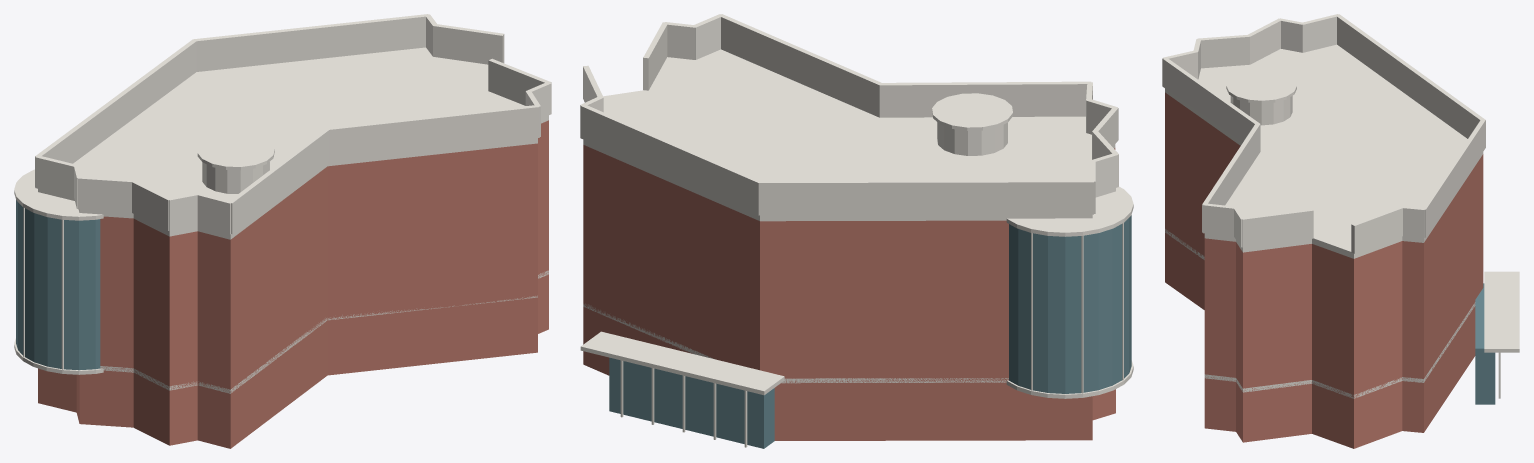
Rendered from seal.glb.
3 views of the same model, side by side, from view 1: azimuth 30°, elevation 25°; view 2: azimuth 150°, elevation 25°; view 3: azimuth 270°, elevation 25° (orthographic). The views are drawn at different scales.
Parts seen in each view (by area): view 1: SOL_tower, SOL_roof_slab, SOL_podium, SOL_glass_tower, SOL_parapet_2, SOL_parapet_11, SOL_parapet_3, SOL_parapet_10, SOL_parapet_0, SOL_pavilion_roof, SOL_parapet_6, SOL_ring_19 (+7 smaller); view 2: SOL_tower, SOL_roof_slab, SOL_podium, SOL_glass_tower, SOL_parapet_3, SOL_atrium, SOL_parapet_2, SOL_parapet_11, SOL_parapet_10, SOL_canopy, SOL_ring_19, SOL_pavilion_roof (+9 smaller); view 3: SOL_tower, SOL_roof_slab, SOL_podium, SOL_parapet_3, SOL_canopy, SOL_parapet_10, SOL_parapet_2, SOL_parapet_14, SOL_pavilion_roof, SOL_parapet_11, SOL_atrium, SOL_parapet_0 (+9 smaller).
Boxes of the visible parts, bbox=[...] form: SOL_tower: bbox=[100, 120, 548, 393]; SOL_roof_slab: bbox=[38, 47, 548, 239]; SOL_podium: bbox=[38, 274, 548, 448]; SOL_glass_tower: bbox=[16, 200, 100, 370]; SOL_parapet_2: bbox=[193, 14, 429, 71]; SOL_parapet_11: bbox=[326, 105, 539, 160]; SOL_parapet_3: bbox=[35, 39, 196, 186]; SOL_parapet_10: bbox=[228, 128, 329, 233]; SOL_parapet_0: bbox=[433, 24, 504, 64]; SOL_pavilion_roof: bbox=[197, 134, 274, 170]; SOL_parapet_6: bbox=[78, 176, 134, 212]; SOL_ring_19: bbox=[14, 169, 103, 220]; SOL_tower: bbox=[583, 145, 1115, 383]; SOL_roof_slab: bbox=[583, 49, 1115, 221]; SOL_podium: bbox=[583, 307, 1115, 440]; SOL_glass_tower: bbox=[1009, 215, 1131, 393]; SOL_parapet_3: bbox=[758, 180, 1093, 215]; SOL_atrium: bbox=[609, 357, 774, 448]; SOL_parapet_2: bbox=[580, 105, 760, 215]; SOL_parapet_11: bbox=[718, 14, 882, 117]; SOL_parapet_10: bbox=[879, 81, 1091, 117]; SOL_canopy: bbox=[580, 331, 784, 395]; SOL_ring_19: bbox=[1006, 186, 1133, 236]; SOL_pavilion_roof: bbox=[932, 93, 1012, 130]; SOL_tower: bbox=[1165, 92, 1483, 398]; SOL_roof_slab: bbox=[1165, 44, 1483, 258]; SOL_podium: bbox=[1165, 232, 1475, 448]; SOL_parapet_3: bbox=[1336, 14, 1485, 138]; SOL_canopy: bbox=[1484, 271, 1519, 352]; SOL_parapet_10: bbox=[1162, 58, 1260, 151]; SOL_parapet_2: bbox=[1422, 119, 1485, 237]; SOL_parapet_14: bbox=[1242, 208, 1313, 247]; SOL_pavilion_roof: bbox=[1226, 71, 1296, 103]; SOL_parapet_11: bbox=[1202, 123, 1260, 232]; SOL_atrium: bbox=[1475, 283, 1495, 404]; SOL_parapet_0: bbox=[1351, 206, 1404, 253].
Bounding box in the file's own units: 47.37 × 22.4 × 32.36.
